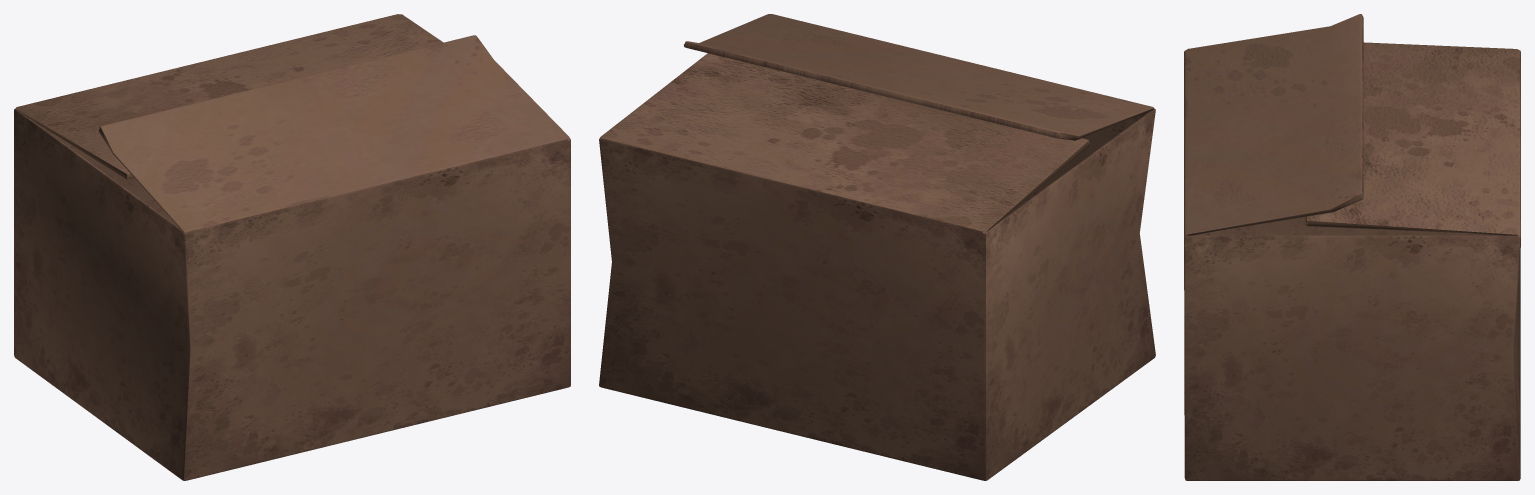
The picture shows the model from 3 angles, left to right: view 1: azimuth 30°, elevation 25°; view 2: azimuth 150°, elevation 25°; view 3: azimuth 270°, elevation 25°; orthographic projection.
Parts seen in each view (by area): view 1: Box005; view 2: Box005; view 3: Box005.
Boxes of the visible parts, x1,y1,x2,y2 form: Box005: [14, 14, 570, 480]; Box005: [599, 14, 1155, 480]; Box005: [1184, 14, 1520, 480].
Size of the model in its own units: 16.56 by 11.75 by 12.61.
